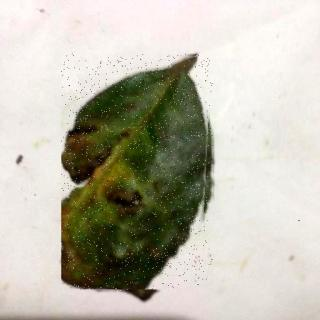Red Leaf Spot: (63, 55, 215, 292)
